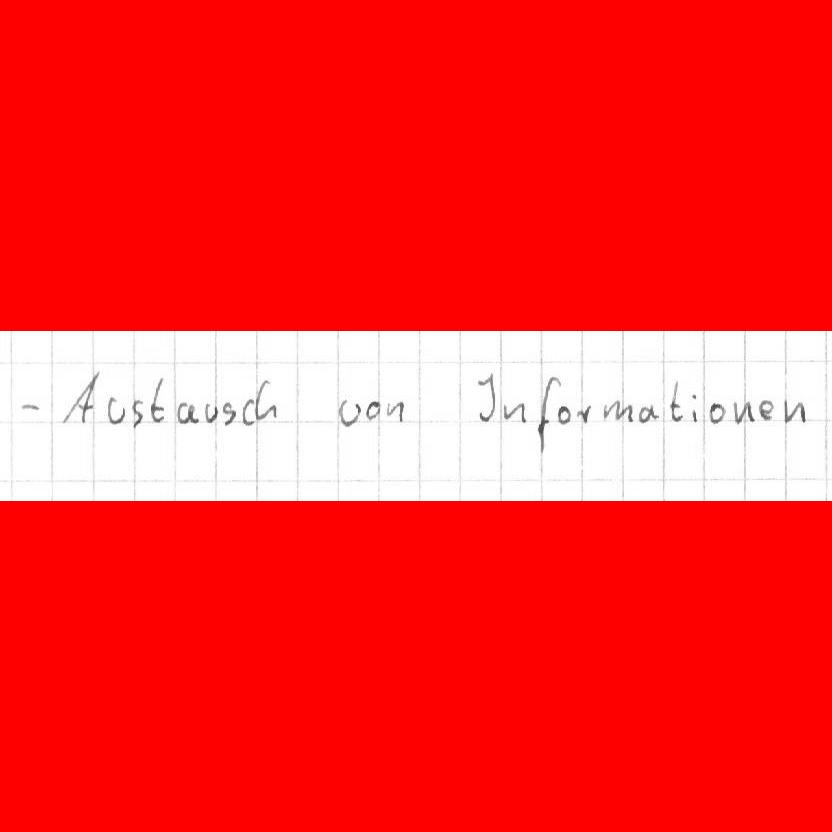Char: (59, 366, 102, 426), (535, 372, 561, 455), (254, 377, 278, 423), (477, 370, 497, 423), (149, 374, 169, 426), (602, 399, 635, 424), (668, 379, 685, 423), (338, 396, 361, 428), (782, 397, 808, 425), (106, 394, 128, 425), (502, 399, 528, 425), (732, 399, 757, 426), (174, 399, 200, 424), (128, 396, 146, 427), (636, 402, 661, 424), (707, 400, 729, 424), (757, 397, 777, 423), (385, 397, 405, 422), (221, 397, 238, 426), (575, 403, 598, 423), (364, 397, 382, 422), (241, 397, 255, 426), (556, 402, 573, 425), (17, 399, 43, 413), (204, 400, 218, 423), (690, 391, 699, 422)
